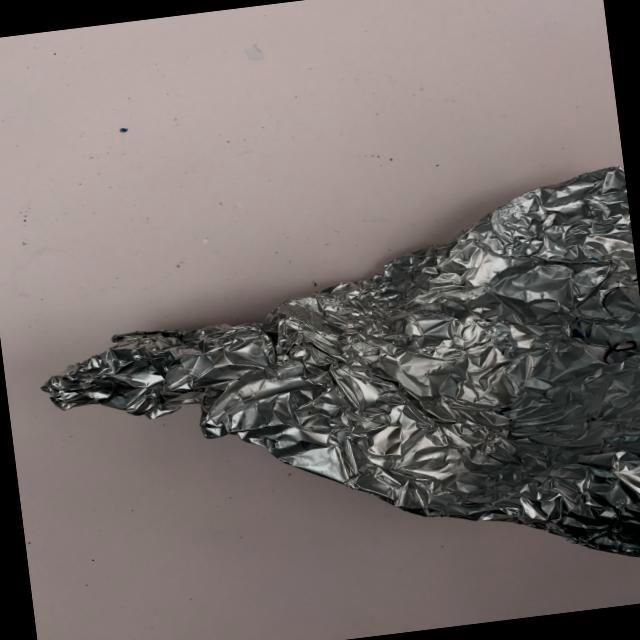metal: (18, 154, 640, 640)
